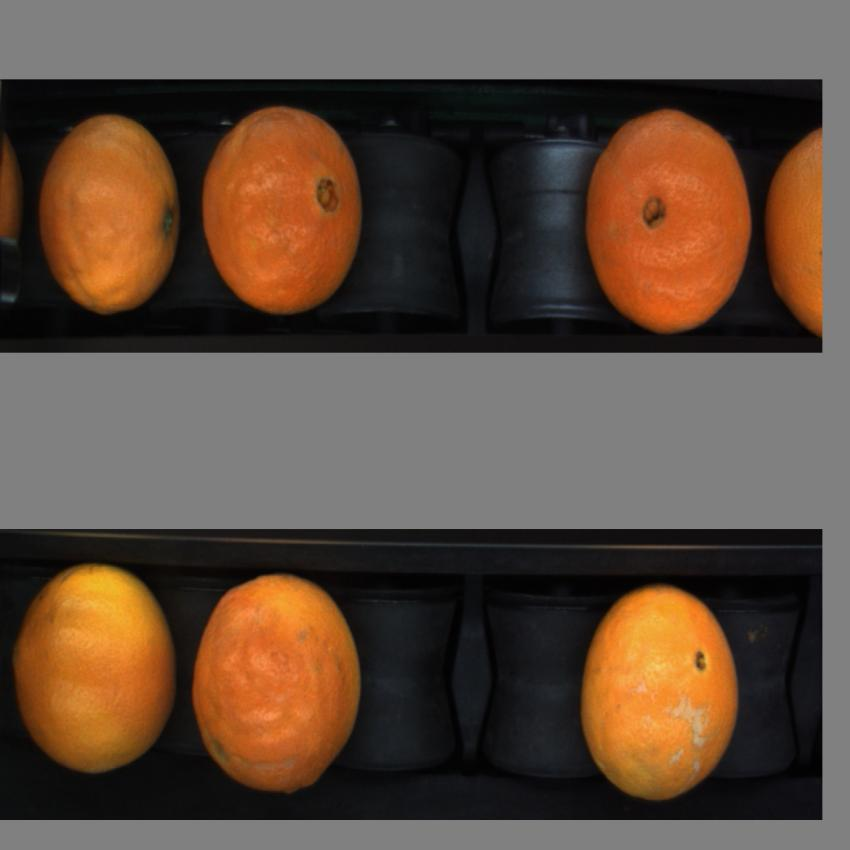Buen estado: (582, 108, 756, 336), (192, 568, 363, 799), (9, 557, 182, 777), (200, 103, 376, 315), (41, 108, 184, 322), (765, 116, 822, 337)
Mal estado: (580, 576, 746, 801)
